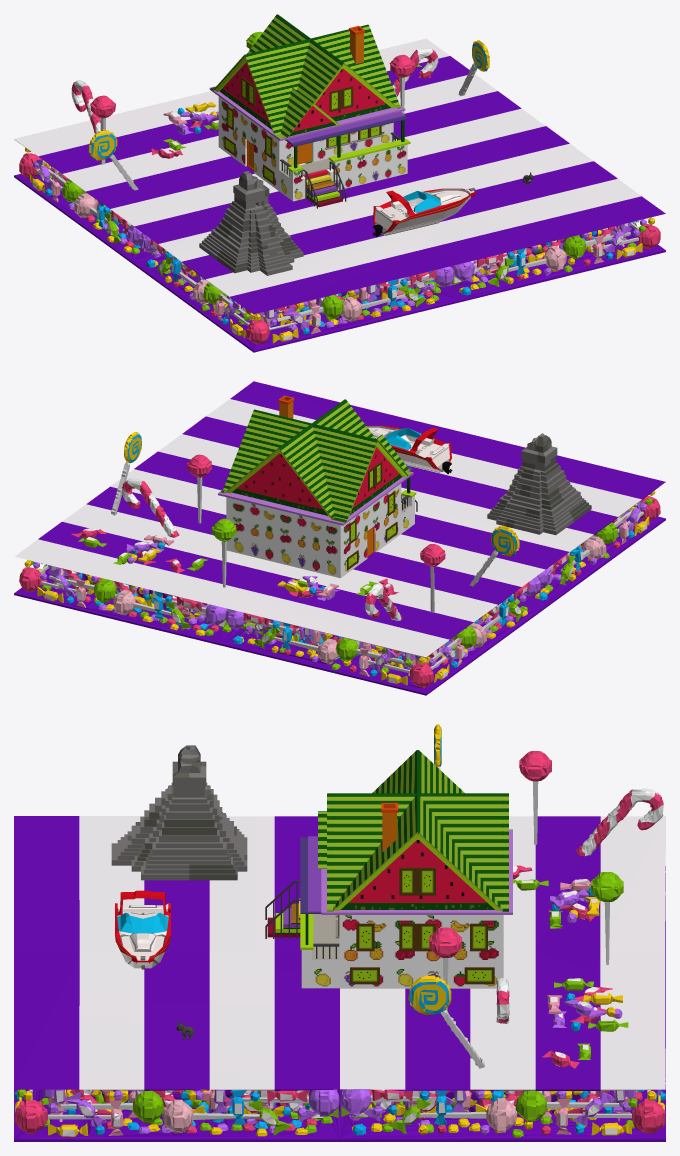
3 renders of one model, top to bottom at view 1: azimuth 30°, elevation 25°; view 2: azimuth 150°, elevation 25°; view 3: azimuth 270°, elevation 25°, orthographic. The views are drawn at different scales.
Visible parts, largest first — view 1: TERRAIN_CANDY, Cube.1063, OBJRANDOM_GRAN_JAGUAR, VEHICLES_BOAT; view 2: TERRAIN_CANDY, Cube.1063, OBJRANDOM_GRAN_JAGUAR, VEHICLES_BOAT; view 3: TERRAIN_CANDY, Cube.1063, OBJRANDOM_GRAN_JAGUAR, VEHICLES_BOAT.
Part boxes in pixels (x1=…): TERRAIN_CANDY: x1=14, y1=31, x2=665, y2=352; Cube.1063: x1=209, y1=14, x2=410, y2=208; OBJRANDOM_GRAN_JAGUAR: x1=199, y1=171, x2=303, y2=275; VEHICLES_BOAT: x1=372, y1=187, x2=475, y2=237; TERRAIN_CANDY: x1=14, y1=381, x2=665, y2=695; Cube.1063: x1=218, y1=395, x2=417, y2=578; OBJRANDOM_GRAN_JAGUAR: x1=487, y1=433, x2=591, y2=535; VEHICLES_BOAT: x1=366, y1=425, x2=452, y2=474; TERRAIN_CANDY: x1=14, y1=724, x2=665, y2=1141; Cube.1063: x1=265, y1=750, x2=512, y2=988; OBJRANDOM_GRAN_JAGUAR: x1=111, y1=745, x2=247, y2=880; VEHICLES_BOAT: x1=115, y1=890, x2=170, y2=969.
Size of the model in its own units: 4059 by 1607 by 4000.
Materials: 24 (5 with a texture image).
